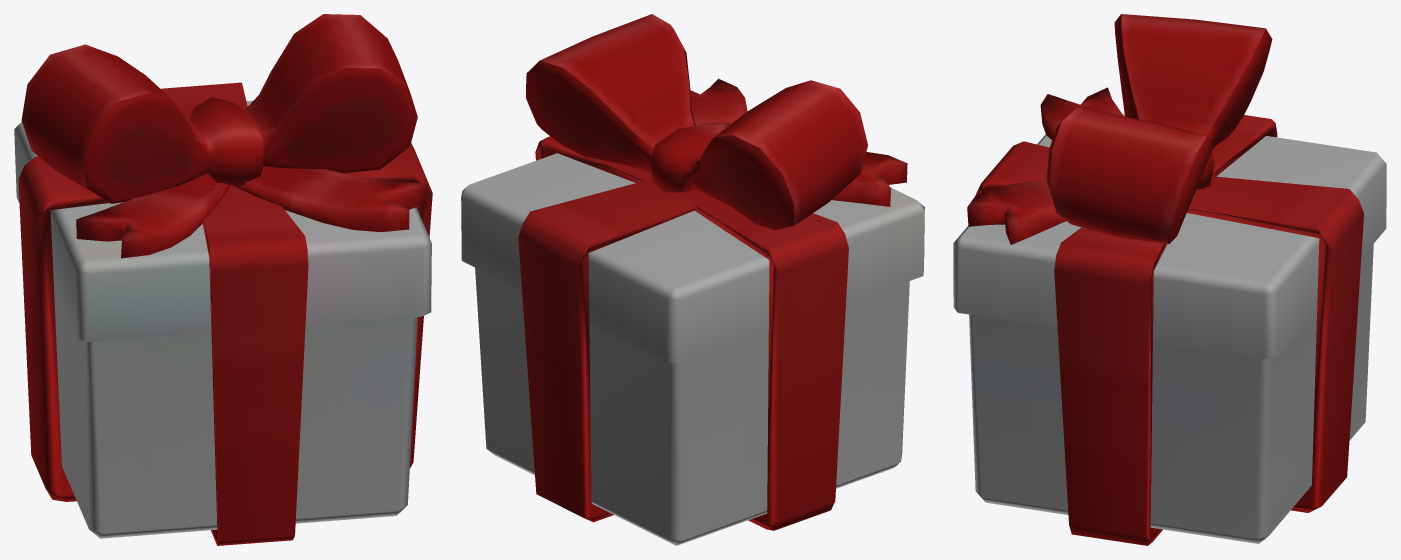
File: present.glb
The picture shows the model from 3 angles, left to right: view 1: azimuth 30°, elevation 25°; view 2: azimuth 150°, elevation 25°; view 3: azimuth 270°, elevation 25°; orthographic projection. The views are drawn at different scales.
Bounding box in the file's own units: 4.28 × 4.38 × 4.28.
Materials: 1 (1 with a texture image).
